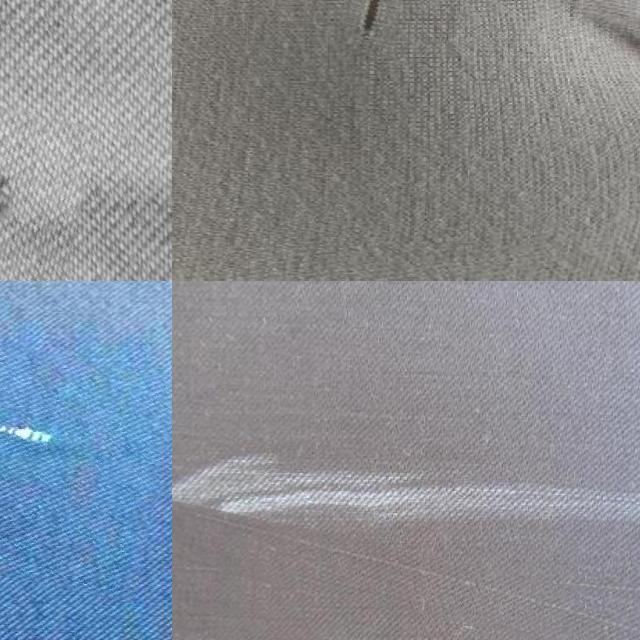other: (0, 87, 88, 281), (339, 0, 403, 57)
stains: (172, 528, 640, 640), (0, 331, 171, 589)
